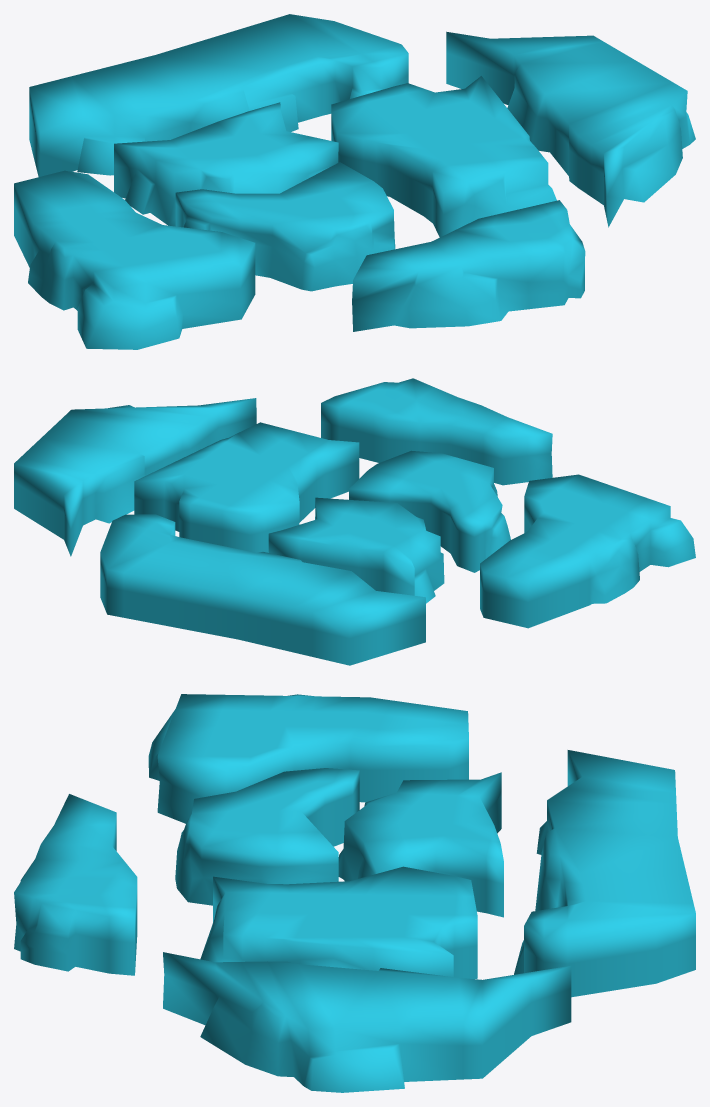
The model's file is S_Ice00_low.fbx.
3 views of the same model, one above another, from view 1: azimuth 30°, elevation 25°; view 2: azimuth 150°, elevation 25°; view 3: azimuth 270°, elevation 25° (orthographic). The views are drawn at different scales.
Parts seen in each view (by area): view 1: Ice06_low, Ice01_low, Ice05_low, Ice04_low, Ice00_low, Ice02_low, Ice03_low; view 2: Ice06_low, Ice01_low, Ice04_low, Ice05_low, Ice00_low, Ice03_low, Ice02_low; view 3: Ice05_low, Ice06_low, Ice01_low, Ice04_low, Ice02_low, Ice00_low, Ice03_low.
Part boxes in pixels (left/top/right/bottom): Ice06_low: left=29, top=14, right=408, bottom=176; Ice01_low: left=14, top=170, right=255, bottom=349; Ice05_low: left=446, top=31, right=695, bottom=227; Ice04_low: left=331, top=76, right=556, bottom=237; Ice00_low: left=352, top=200, right=585, bottom=331; Ice02_low: left=175, top=162, right=395, bottom=291; Ice03_low: left=114, top=102, right=338, bottom=226; Ice06_low: left=100, top=514, right=425, bottom=665; Ice01_low: left=480, top=474, right=695, bottom=628; Ice04_low: left=134, top=422, right=359, bottom=552; Ice05_low: left=14, top=398, right=256, bottom=556; Ice00_low: left=321, top=378, right=552, bottom=485; Ice03_low: left=268, top=497, right=444, bottom=603; Ice02_low: left=349, top=450, right=510, bottom=572; Ice05_low: left=163, top=952, right=571, bottom=1092; Ice06_low: left=514, top=750, right=695, bottom=997; Ice01_low: left=148, top=694, right=468, bottom=823; Ice04_low: left=200, top=866, right=477, bottom=979; Ice02_low: left=175, top=768, right=359, bottom=905; Ice00_low: left=14, top=794, right=137, bottom=975; Ice03_low: left=338, top=772, right=503, bottom=917.
Size of the model in its own units: 2830 by 216 by 2289.
